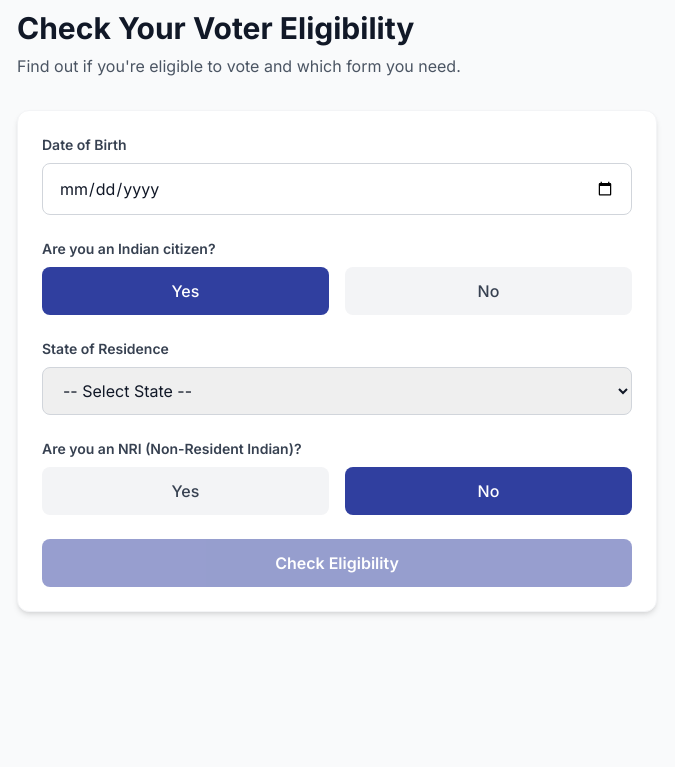
EligibilityPage › submits voter details and announces the result
Type "2000-01-01" into the date field labelled "Date of Birth" at {"x": 337, "y": 189}, box 42,163 -> 632,215
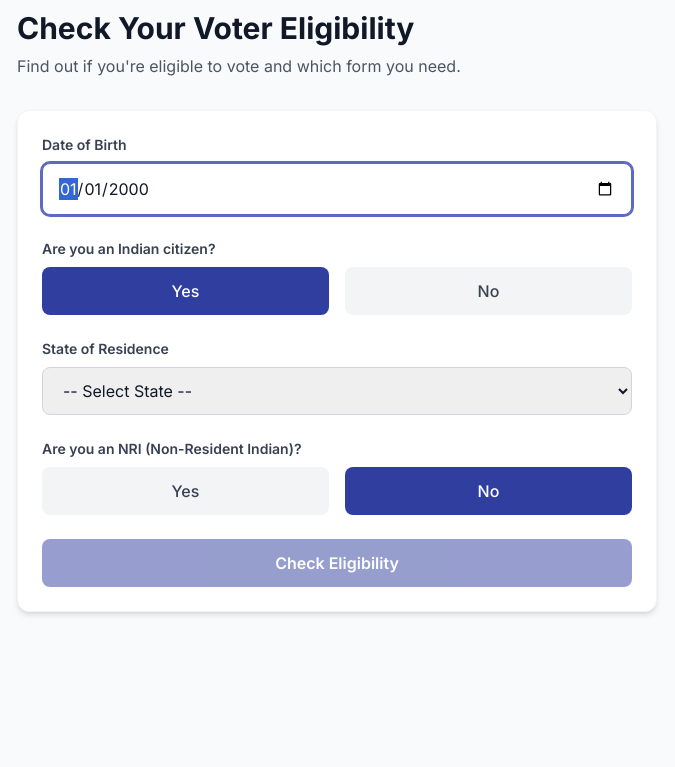
Select "Maharashtra (MH)" in the dropdown labelled "State of Residence" at {"x": 337, "y": 391}, box 42,367 -> 632,415
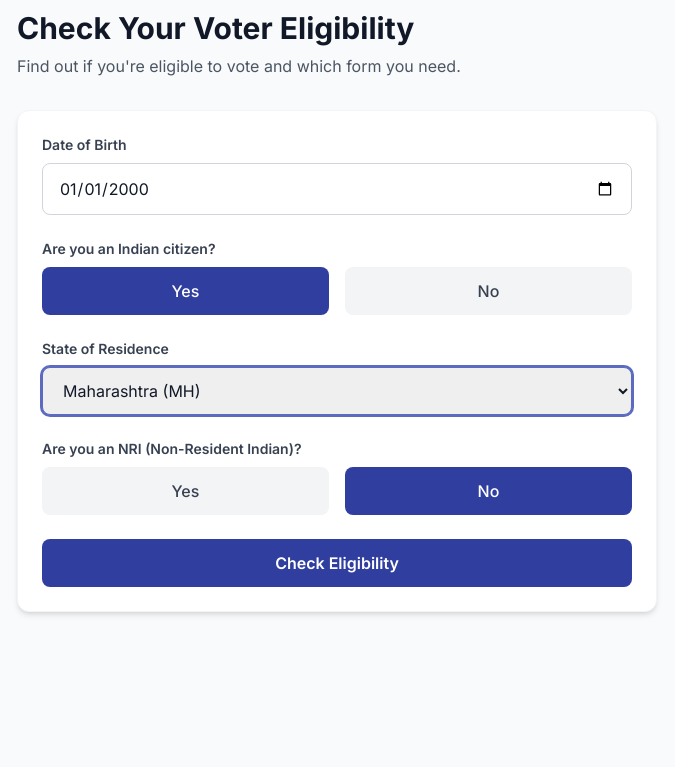
Click the button "Check Eligibility" at {"x": 337, "y": 563}, box 42,539 -> 632,587
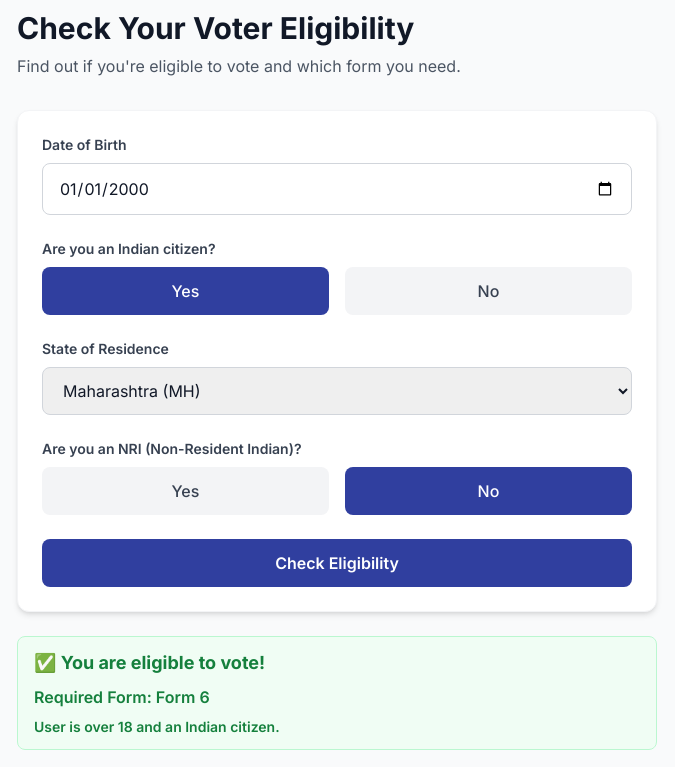
Expected: the message shows "eligible to vote", 61,652 -> 265,673
